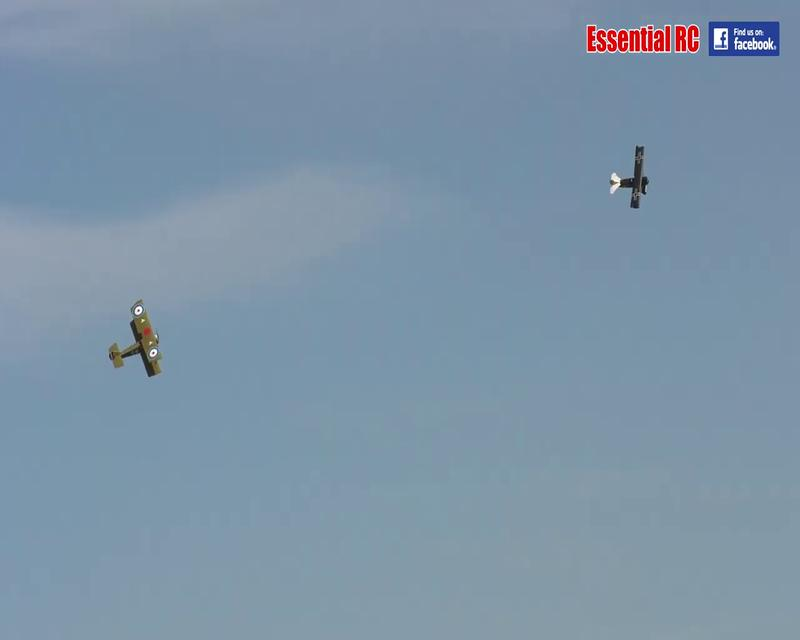UAV: (107, 298, 163, 377), (609, 143, 650, 210)
